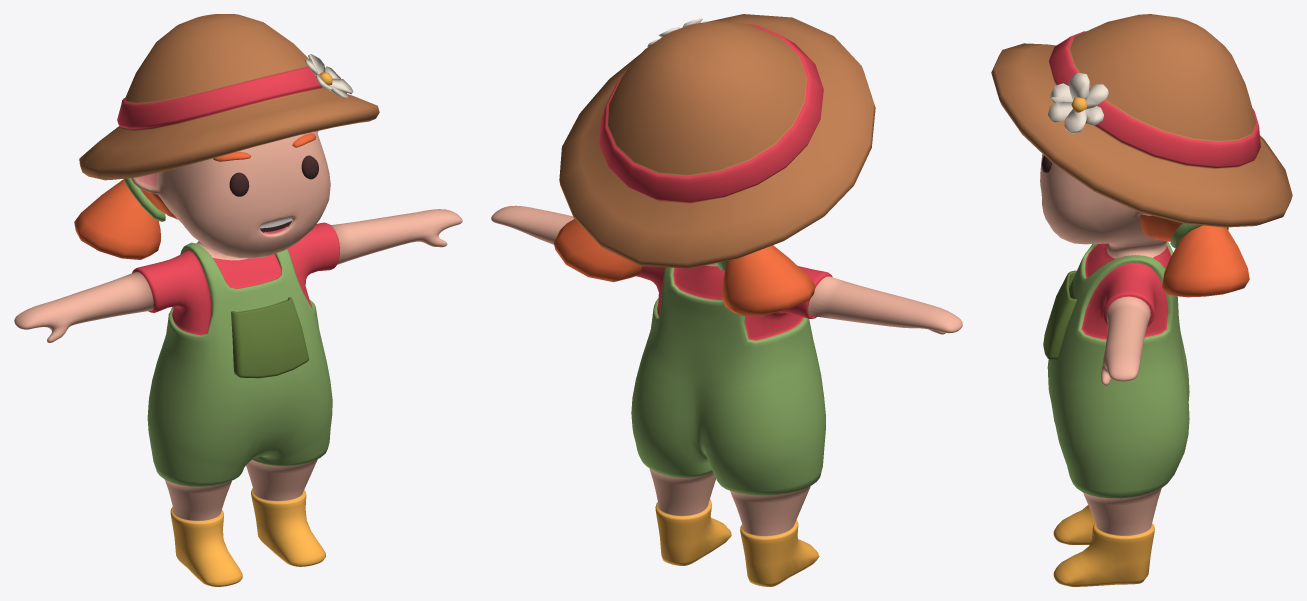
File: young_female_farmer_01.fbx
3 renders of one model, left to right at view 1: azimuth 30°, elevation 25°; view 2: azimuth 150°, elevation 25°; view 3: azimuth 270°, elevation 25°, orthographic. The views are drawn at different scales.
Parts seen in each view (by area): view 1: young_female_farmer_01; view 2: young_female_farmer_01; view 3: young_female_farmer_01.
Boxes of the visible parts, left/top/right/bottom form: young_female_farmer_01: left=14, top=14, right=462, bottom=586; young_female_farmer_01: left=491, top=14, right=962, bottom=586; young_female_farmer_01: left=991, top=14, right=1292, bottom=586.
Size of the model in its own units: 4.94 by 5.55 by 2.83.
